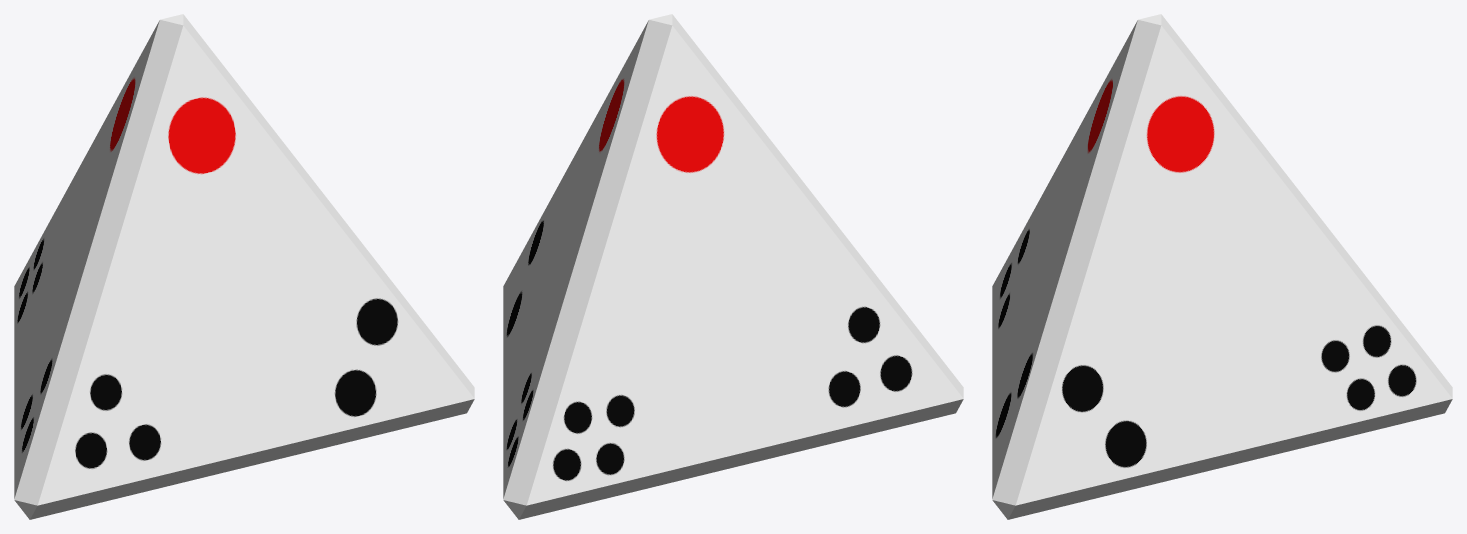
File: Dice04.obj
3 views of the same model, side by side, from view 1: azimuth 30°, elevation 25°; view 2: azimuth 150°, elevation 25°; view 3: azimuth 270°, elevation 25° (orthographic).
Visible parts, largest first — view 1: Cone_Cone.001; view 2: Cone_Cone.001; view 3: Cone_Cone.001.
Part boxes in pixels (x1=…): Cone_Cone.001: x1=14, y1=14, x2=474, y2=519; Cone_Cone.001: x1=503, y1=14, x2=963, y2=519; Cone_Cone.001: x1=992, y1=14, x2=1452, y2=519.
Bounding box in the file's own units: 0.1815 × 0.1482 × 0.1572.
Materials: 1 (1 with a texture image).
